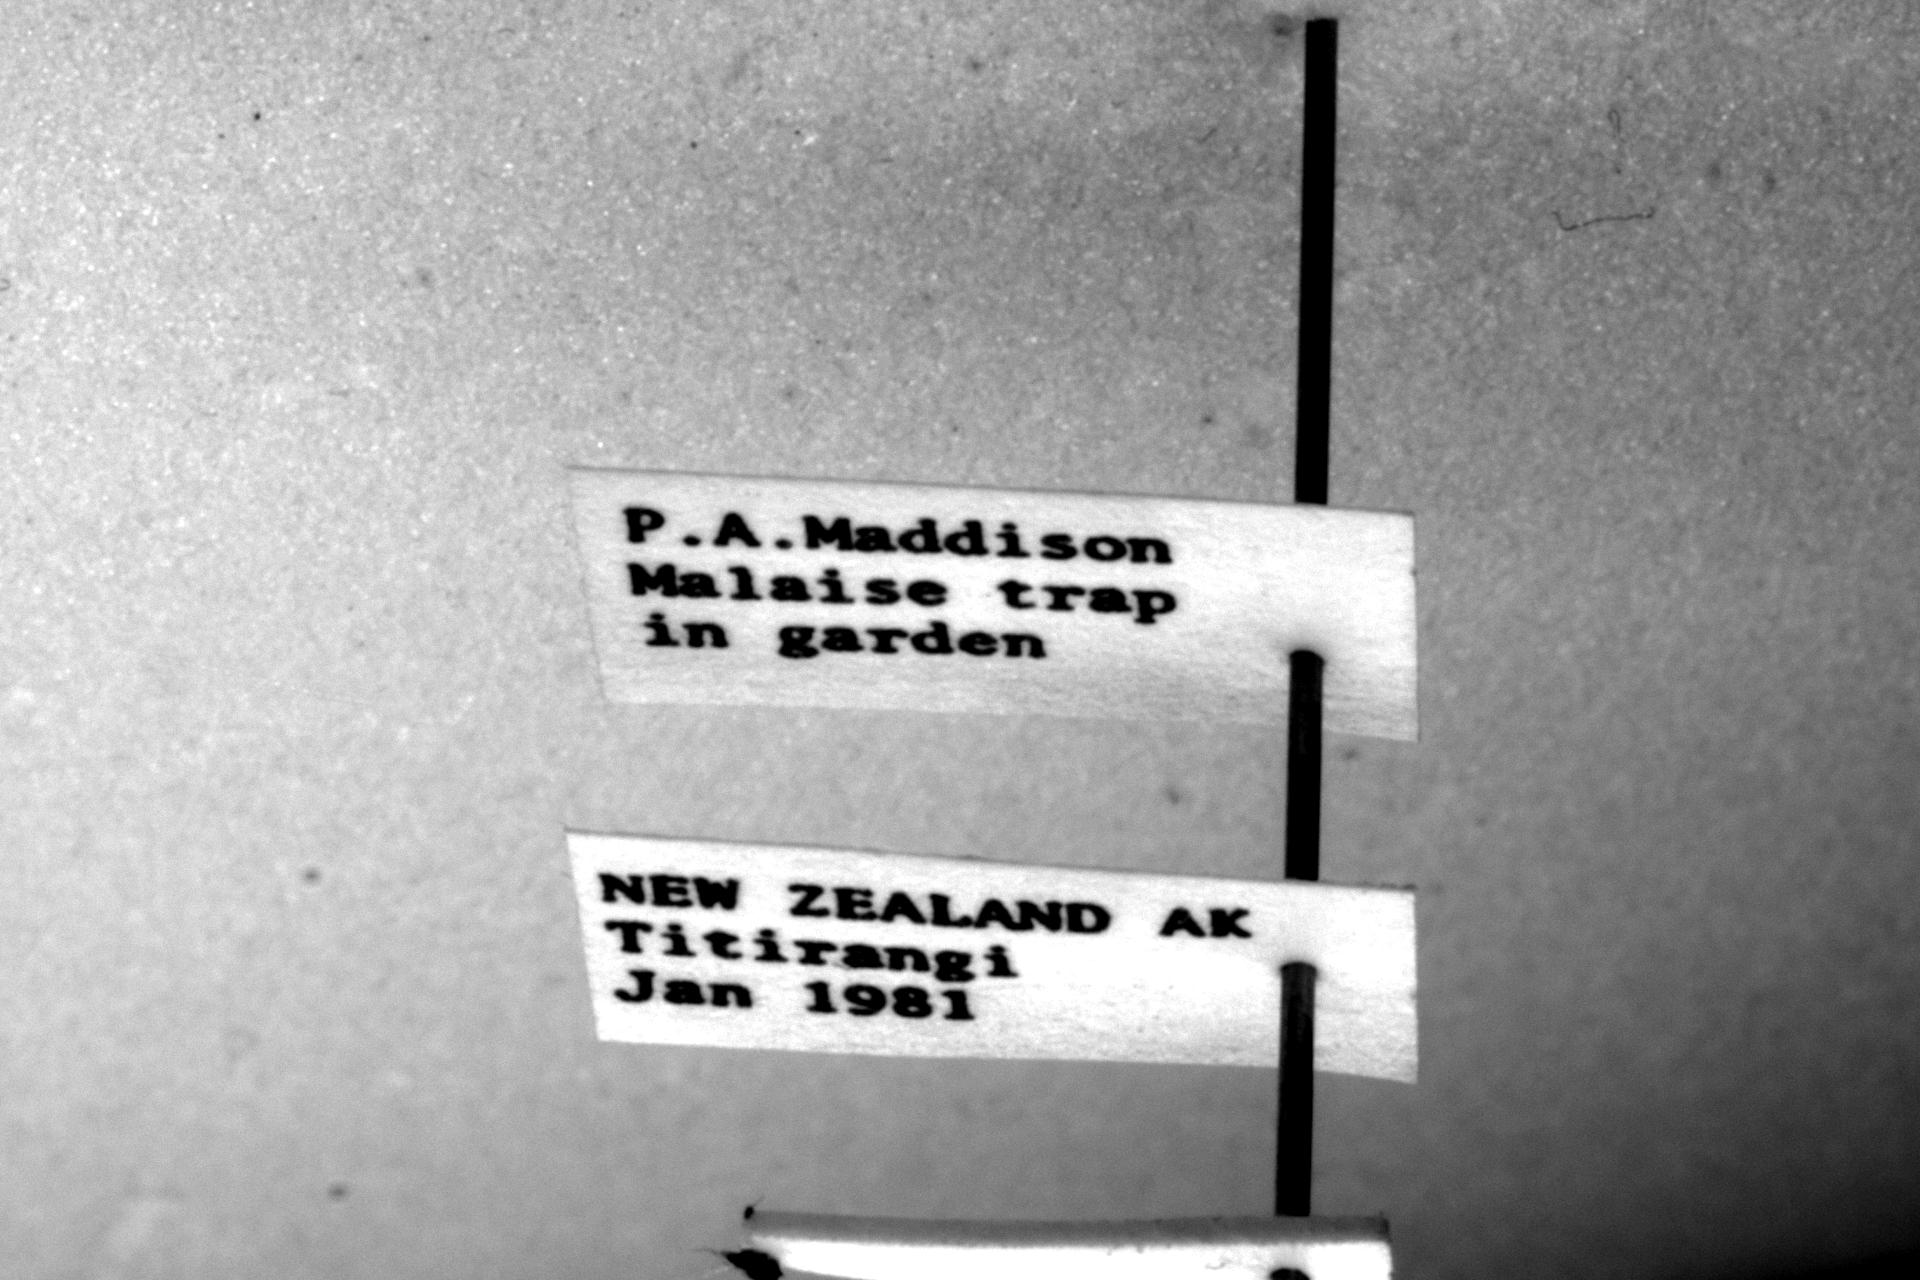typed_label: (570, 469, 1417, 739), (566, 833, 1417, 1080)
